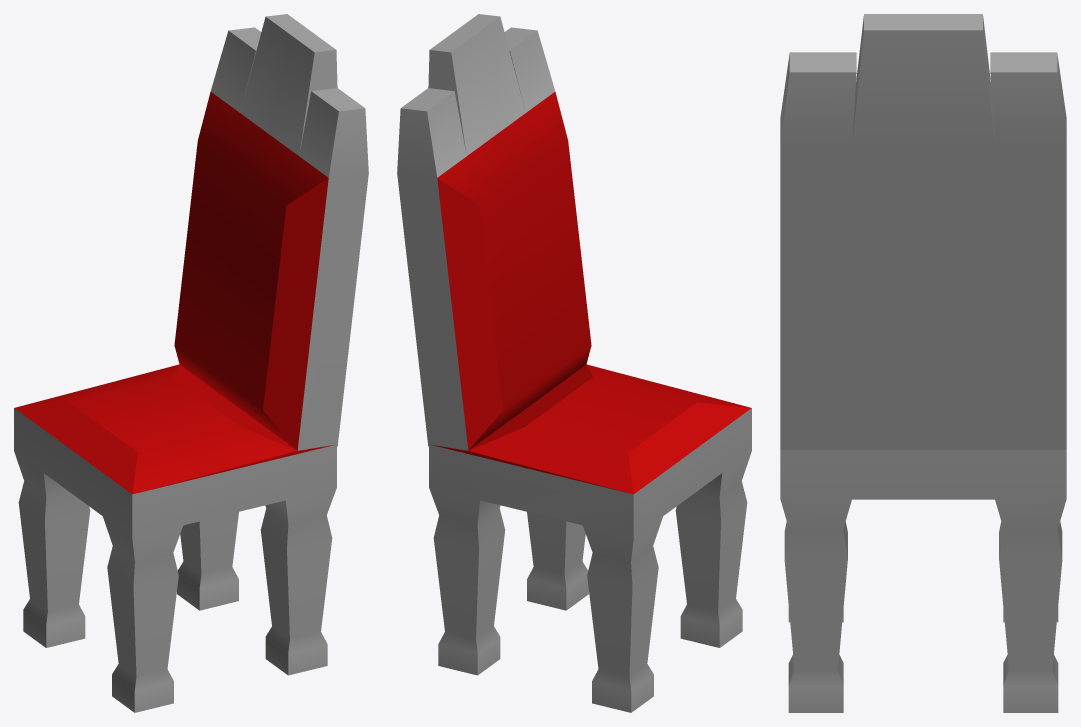
The model's file is Chair2.fbx.
3 renders of one model, left to right at view 1: azimuth 30°, elevation 25°; view 2: azimuth 150°, elevation 25°; view 3: azimuth 270°, elevation 25°, orthographic. The views are drawn at different scales.
Parts seen in each view (by area): view 1: pCube1; view 2: pCube1; view 3: pCube1.
Part boxes in pixels (x1,y1,x2,y2): pCube1: (14, 14, 368, 712); pCube1: (397, 14, 751, 712); pCube1: (780, 14, 1066, 712).
Bounding box in the file's own units: 1.17 × 2.74 × 1.
